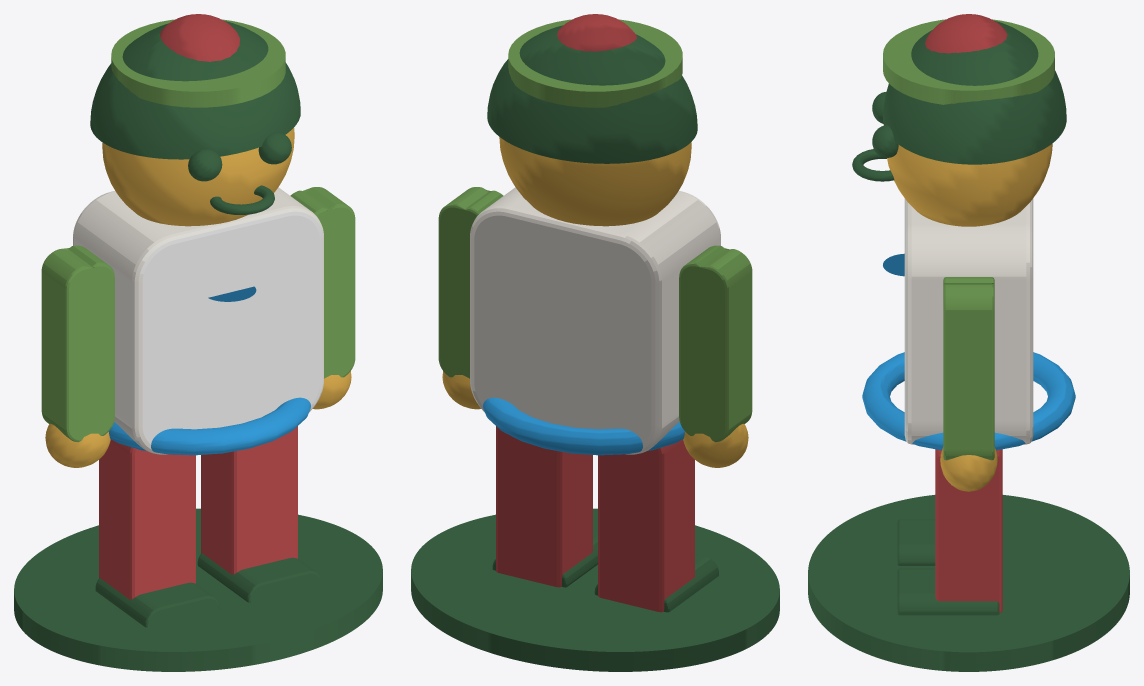
3 views of the same model, side by side, from view 1: azimuth 30°, elevation 25°; view 2: azimuth 150°, elevation 25°; view 3: azimuth 270°, elevation 25° (orthographic).
Visible parts, largest first — view 1: card_1123; view 2: card_1123; view 3: card_1123.
Part boxes in pixels (<box>): card_1123: <box>14,14,382,671</box>; card_1123: <box>411,14,779,671</box>; card_1123: <box>808,14,1129,671</box>.
Bounding box in the file's own units: 0.5957 × 1 × 0.5086.
